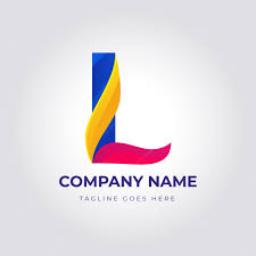l: (62, 46, 194, 174)
